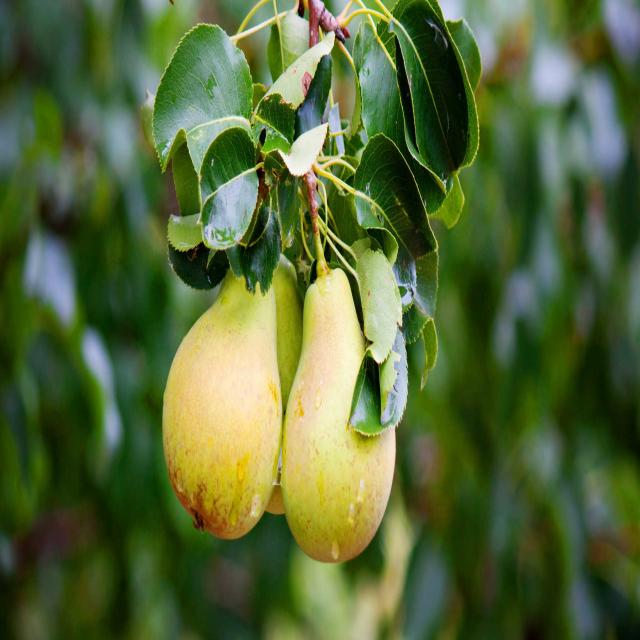paer: (290, 228, 434, 594), (156, 234, 310, 558)
